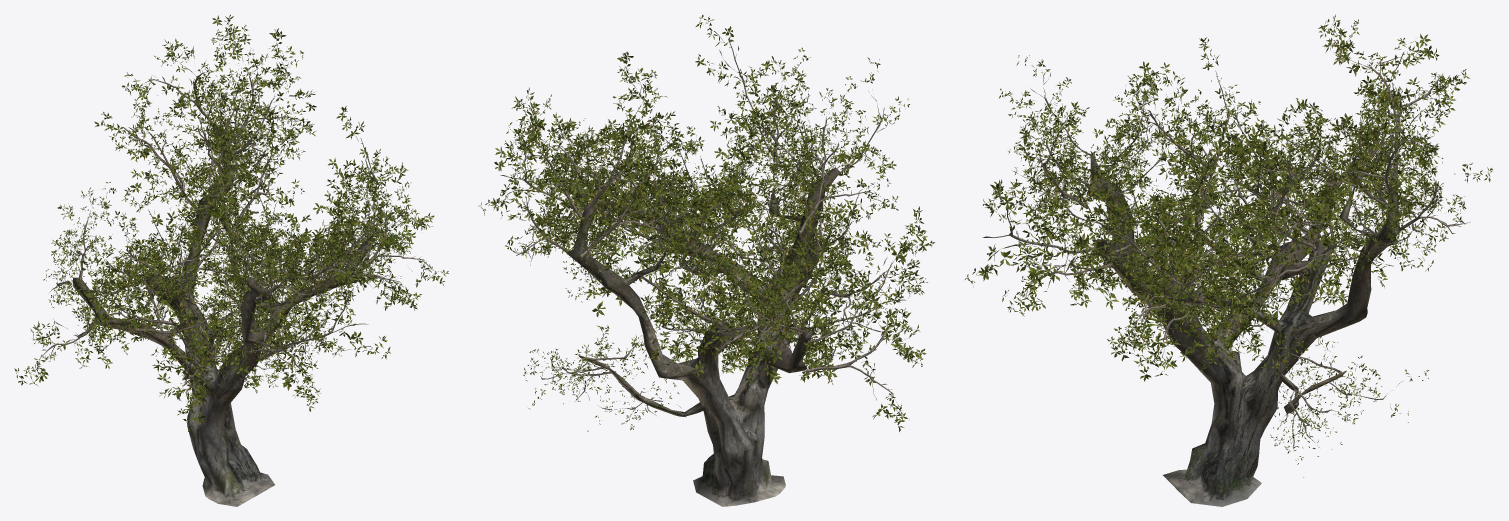
File: baum_2.glb
3 renders of one model, left to right at view 1: azimuth 30°, elevation 25°; view 2: azimuth 150°, elevation 25°; view 3: azimuth 270°, elevation 25°, orthographic. The views are drawn at different scales.
Parts seen in each view (by area): view 1: island_tree_01_LOD0; view 2: island_tree_01_LOD0; view 3: island_tree_01_LOD0.
Boxes of the visible parts, left/top/right/bottom form: island_tree_01_LOD0: left=14, top=14, right=448, bottom=506; island_tree_01_LOD0: left=478, top=15, right=934, bottom=506; island_tree_01_LOD0: left=965, top=14, right=1492, bottom=506.
Size of the model in its own units: 4.74 by 5.02 by 4.82.
Materials: 3 (3 with a texture image).
